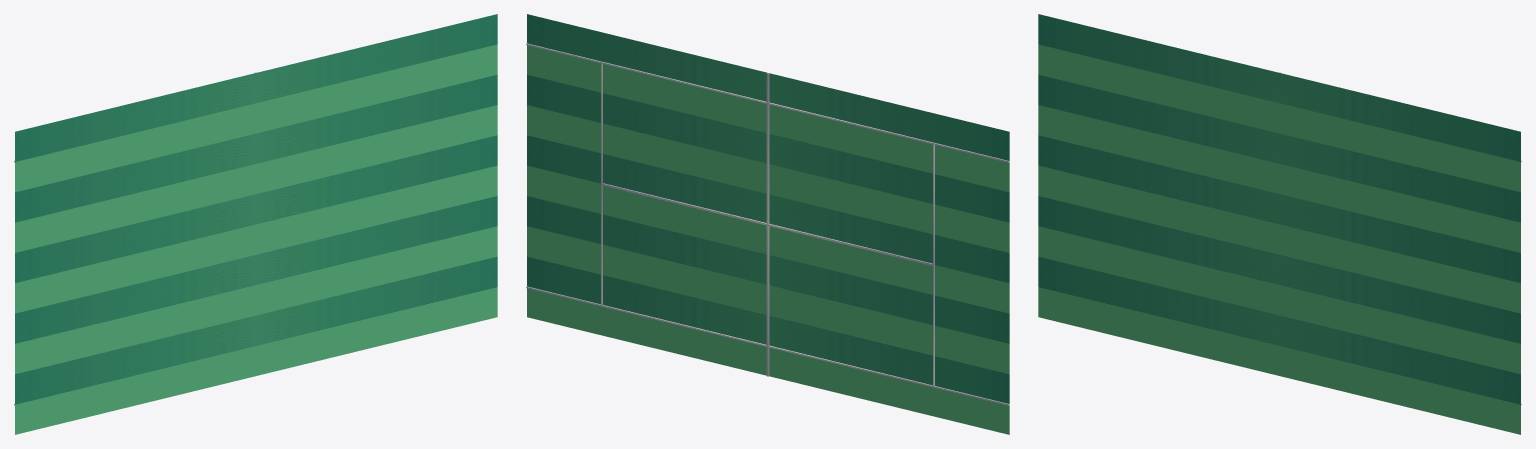
The model's file is field.glb.
3 renders of one model, left to right at view 1: azimuth 30°, elevation 25°; view 2: azimuth 150°, elevation 25°; view 3: azimuth 330°, elevation 25°, orthographic.
Visible parts, largest first — view 1: Plane; view 2: Plane, Plane.001; view 3: Plane.
Part boxes in pixels (x1=…): Plane: x1=15, y1=14, x2=497, y2=434; Plane: x1=527, y1=14, x2=1009, y2=434; Plane.001: x1=526, y1=43, x2=1009, y2=405; Plane: x1=1038, y1=14, x2=1520, y2=434.
Size of the model in its own units: 500 by 300 by 1.
1 material, 1 textured.
